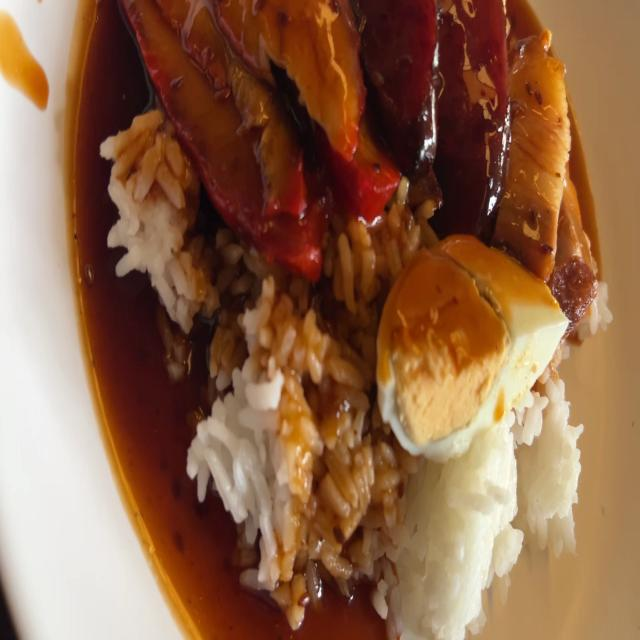red_pork_and_crispy_pork: (385, 236, 564, 447)
stir_fried_basil: (370, 0, 507, 221), (442, 4, 506, 219), (363, 0, 435, 171)
